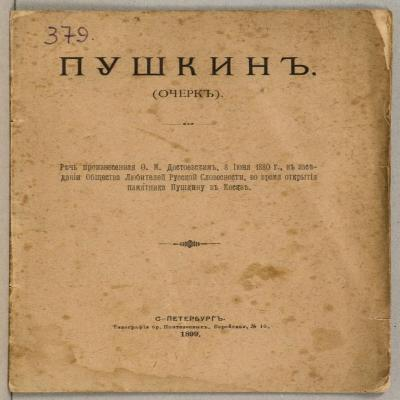rare_books: (3, 4, 394, 400)
